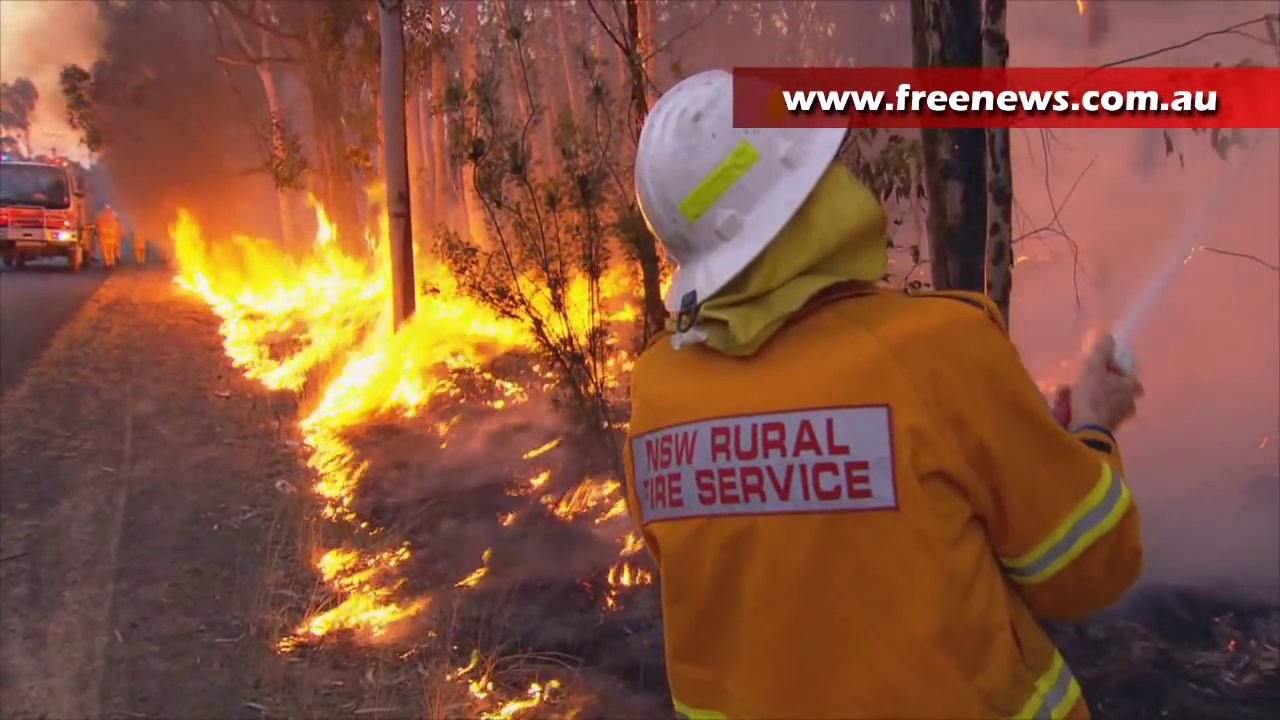fire: (214, 210, 516, 411), (517, 268, 634, 362), (318, 548, 420, 643), (301, 411, 364, 516), (168, 208, 217, 298), (557, 477, 628, 517), (480, 684, 557, 720), (615, 564, 634, 585)
